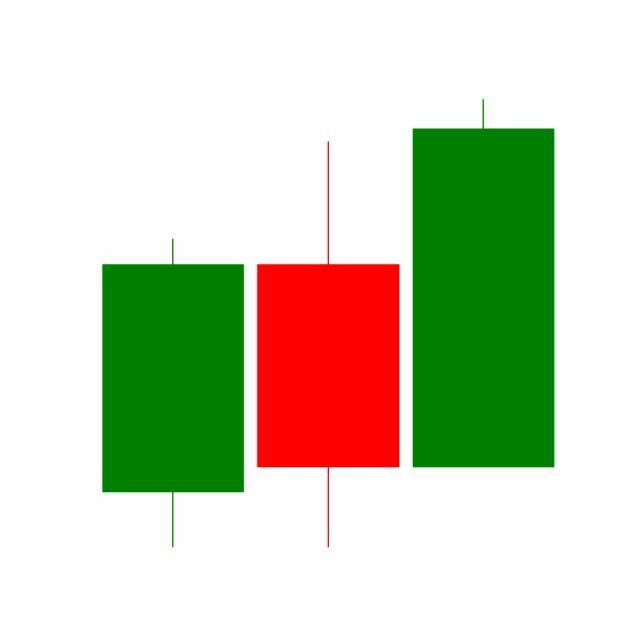Marubozu: (406, 96, 562, 472)
